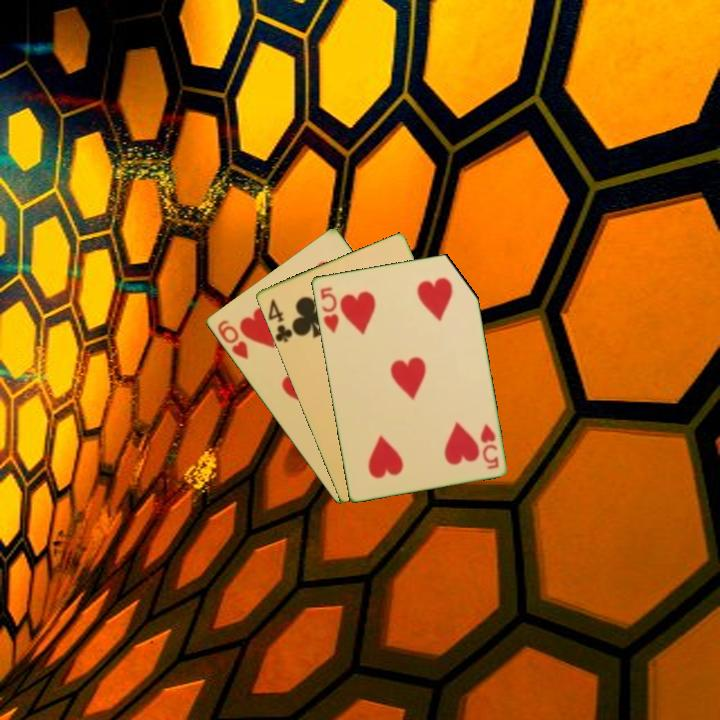4c: (264, 295, 295, 346)
5h: (316, 283, 341, 336), (477, 420, 501, 472)
6h: (213, 316, 251, 362)
